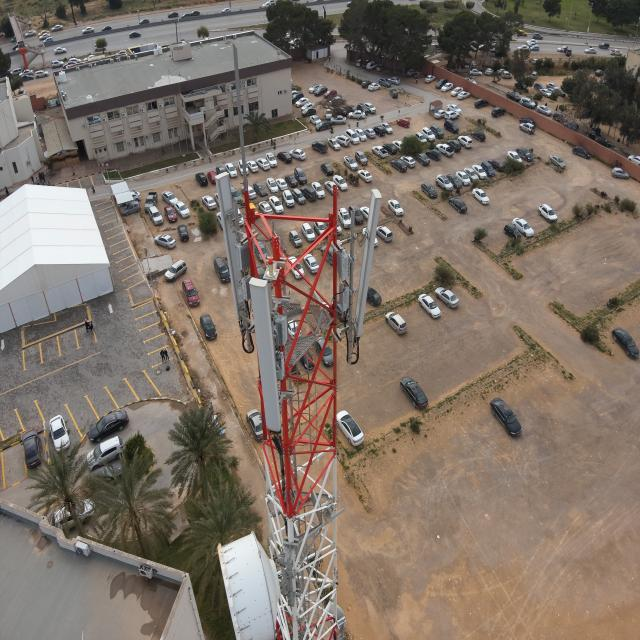Ground Based: (213, 38, 378, 640)
